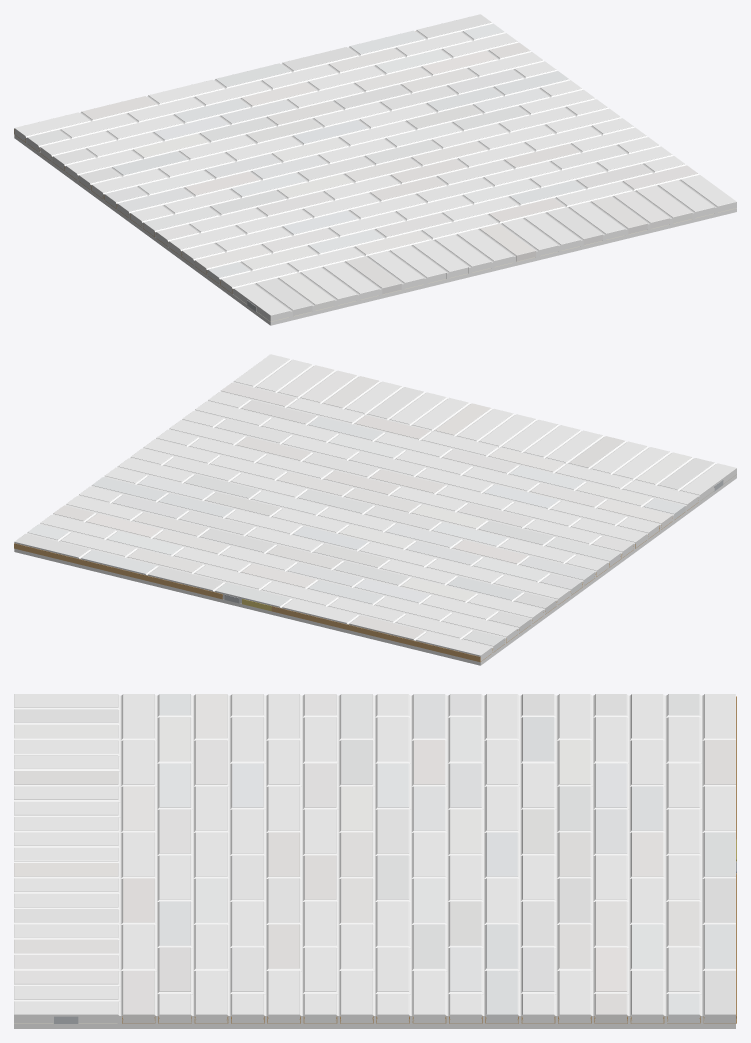
File: board_1.glb
The picture shows the model from 3 angles, top to bottom: view 1: azimuth 30°, elevation 25°; view 2: azimuth 150°, elevation 25°; view 3: azimuth 270°, elevation 25°; orthographic projection. The views are drawn at different scales.
Parts seen in each view (by area): view 1: B01, MORTAR, B03, backing; view 2: B01, MORTAR, B03, backing, CLIP_R700; view 3: B01, MORTAR, B03, backing, CLIP_R700.
Part boxes in pixels (<box>): B01: <box>14,14,736,321</box>; MORTAR: <box>25,22,717,317</box>; B03: <box>27,23,684,283</box>; backing: <box>14,134,736,325</box>; B01: <box>14,354,736,661</box>; MORTAR: <box>27,359,715,653</box>; B03: <box>27,392,685,651</box>; backing: <box>14,474,736,665</box>; CLIP_R700: <box>14,500,698,662</box>; B01: <box>14,694,735,1023</box>; MORTAR: <box>14,694,735,1023</box>; B03: <box>159,694,699,1023</box>; backing: <box>14,1023,735,1028</box>; CLIP_R700: <box>122,696,736,1023</box>.
Size of the model in its own units: 1.57 by 0.033 by 1.49.
